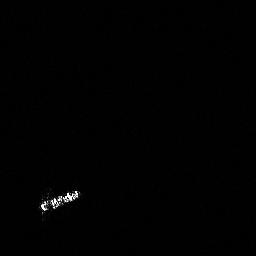ship: (40, 189, 79, 211)
